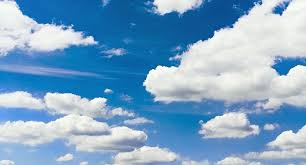sky: (1, 2, 306, 164)
